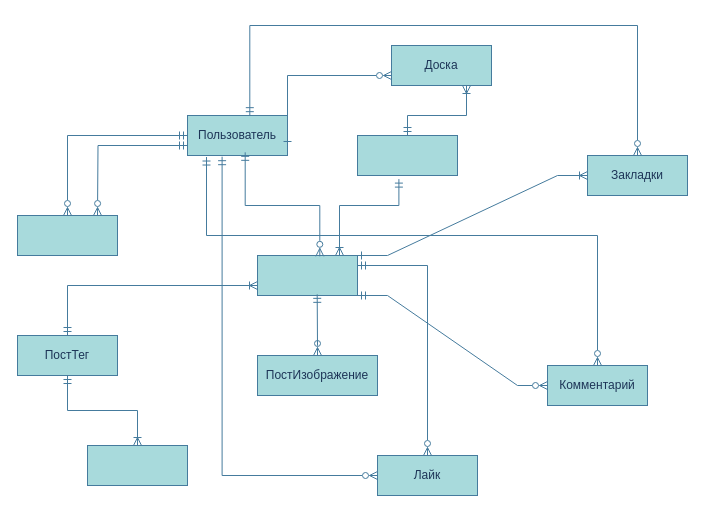
Some shapes in this 705 by 513 pixel diagram are drawn without their labels. The centre of each missing label's shape, as x and y in pixels:
"Подписка" belongs at point (67, 235).
"Пост" belongs at point (307, 275).
"ПостДоска" belongs at point (407, 155).
"Тег" belongs at point (137, 465).
